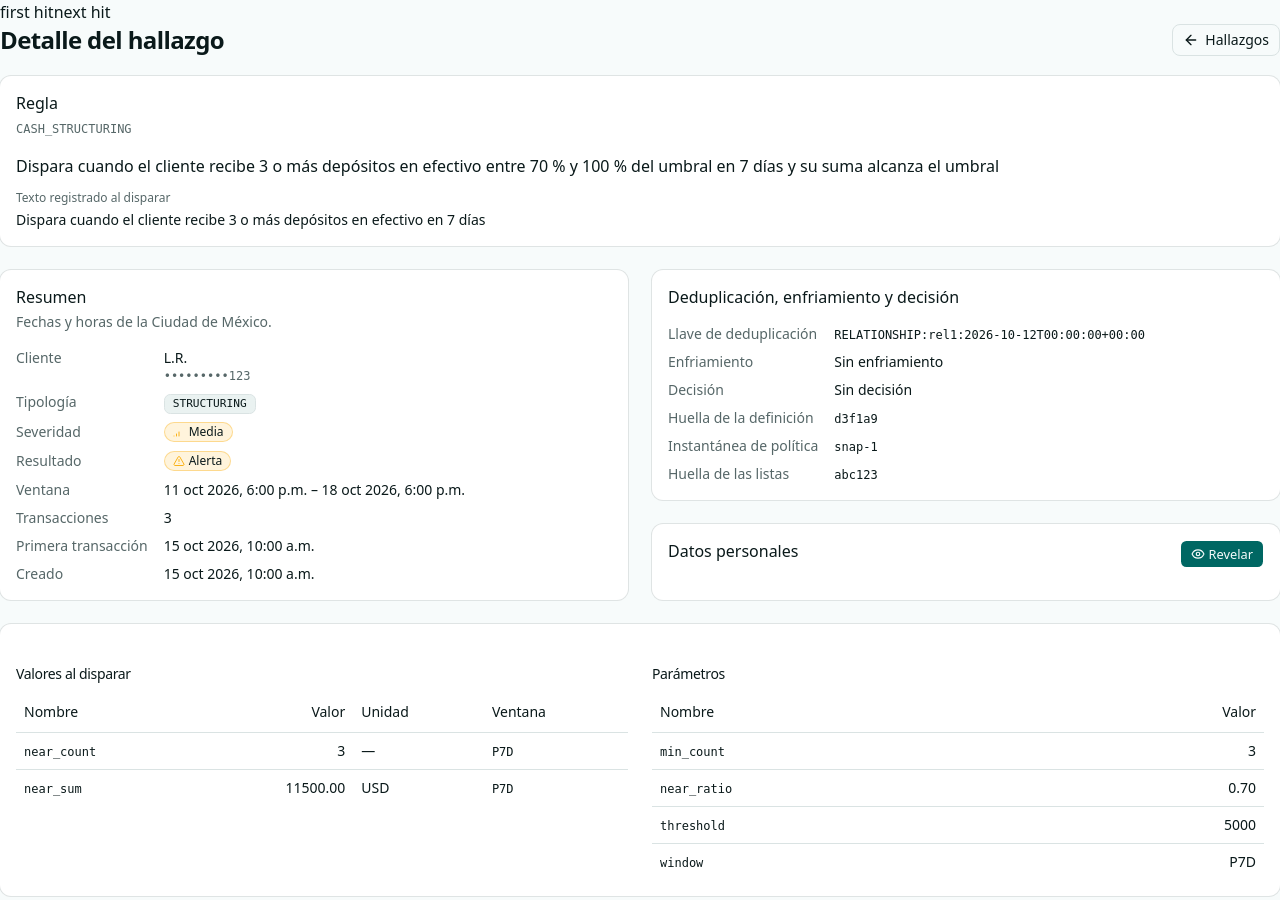
Test: HitPage › announces a failed reveal once and shows nothing personal
expect the text "Dispara cuando el cliente recibe 3 o más depósitos en efectivo entre 70 % y 100 % del umbral en 7 días y su suma alcanza" is shown: met, box 16,155 -> 999,177
Step 1. Click the button "Revelar" → point(1222, 554), box 1180,540 -> 1264,568
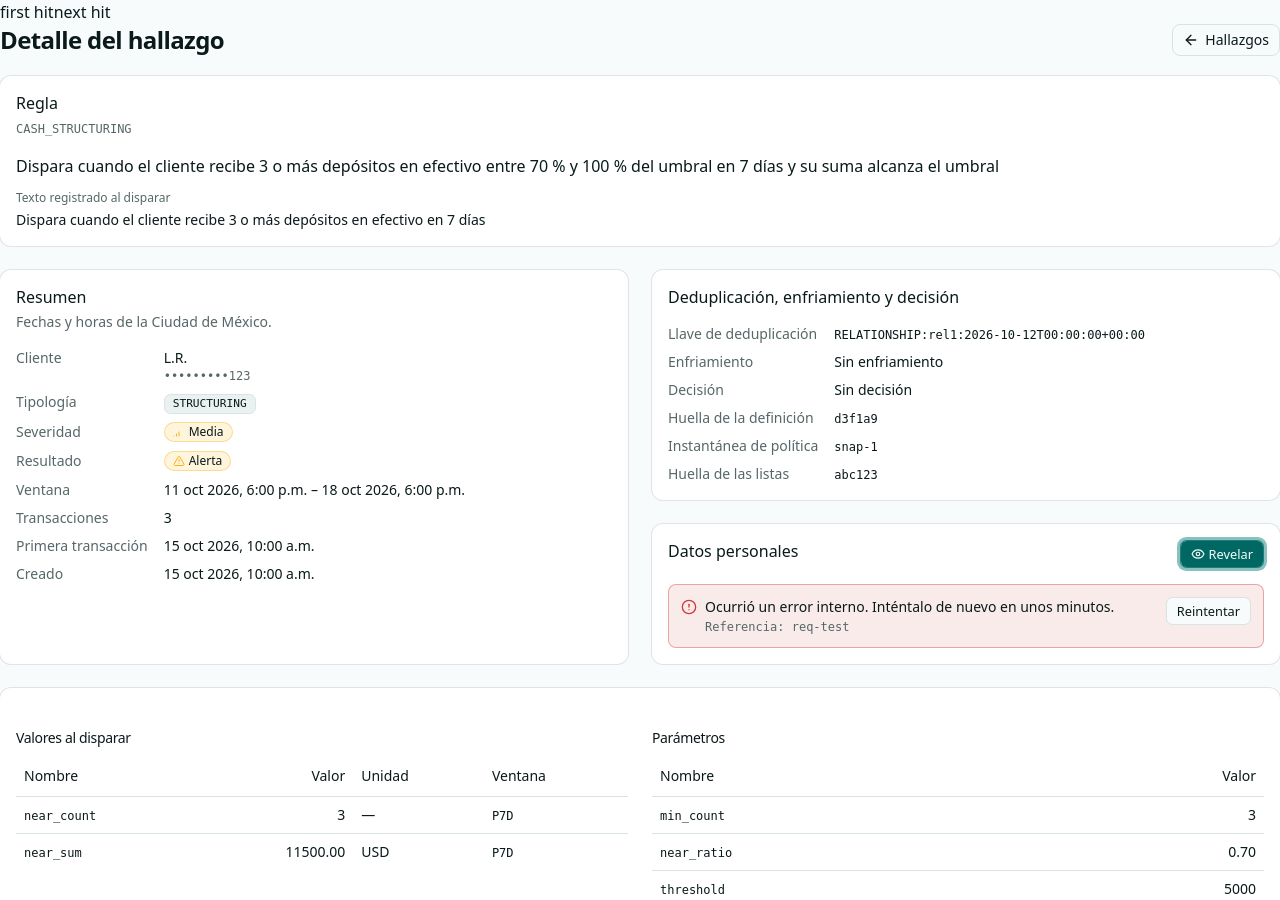
expect the number of messages is 1: met, box 668,584 -> 1264,648
